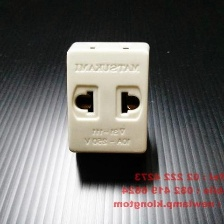three_eye_plug: (63, 36, 155, 157)
